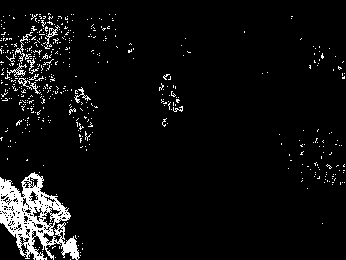person: (21, 173, 79, 260), (1, 176, 23, 260), (69, 88, 97, 152)
